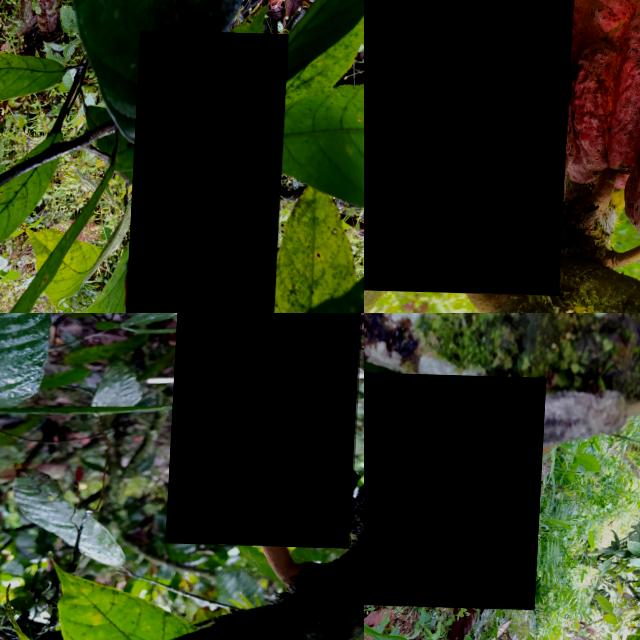Fitoftora: (125, 28, 290, 313), (364, 367, 548, 606)
Monilia: (171, 313, 364, 545)
Sana: (364, 0, 577, 294), (546, 0, 640, 190)
